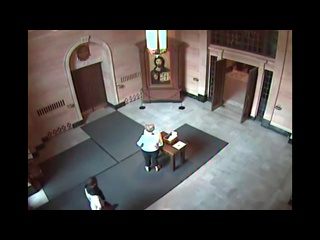Burglary: (136, 122, 163, 172), (84, 176, 118, 210), (84, 177, 106, 210)
